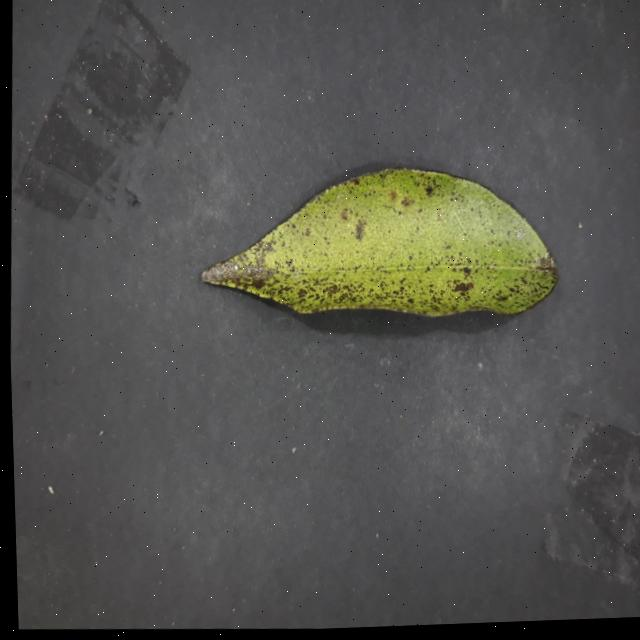greasy_spot: (201, 167, 556, 314)
